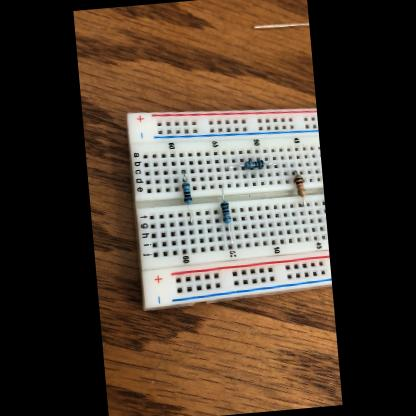breadboard: (124, 95, 332, 312)
resistor: (295, 174, 306, 198), (182, 181, 193, 204), (221, 201, 232, 224), (244, 160, 266, 170)
wire: (254, 21, 309, 31), (228, 223, 233, 247), (220, 185, 226, 202), (188, 204, 193, 224), (225, 165, 244, 170), (298, 198, 306, 206), (266, 162, 277, 167), (182, 172, 186, 182), (292, 171, 298, 174)
